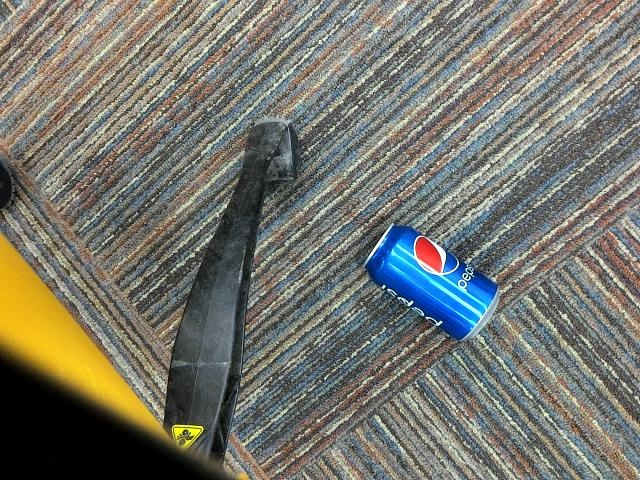can: (359, 219, 507, 353)
